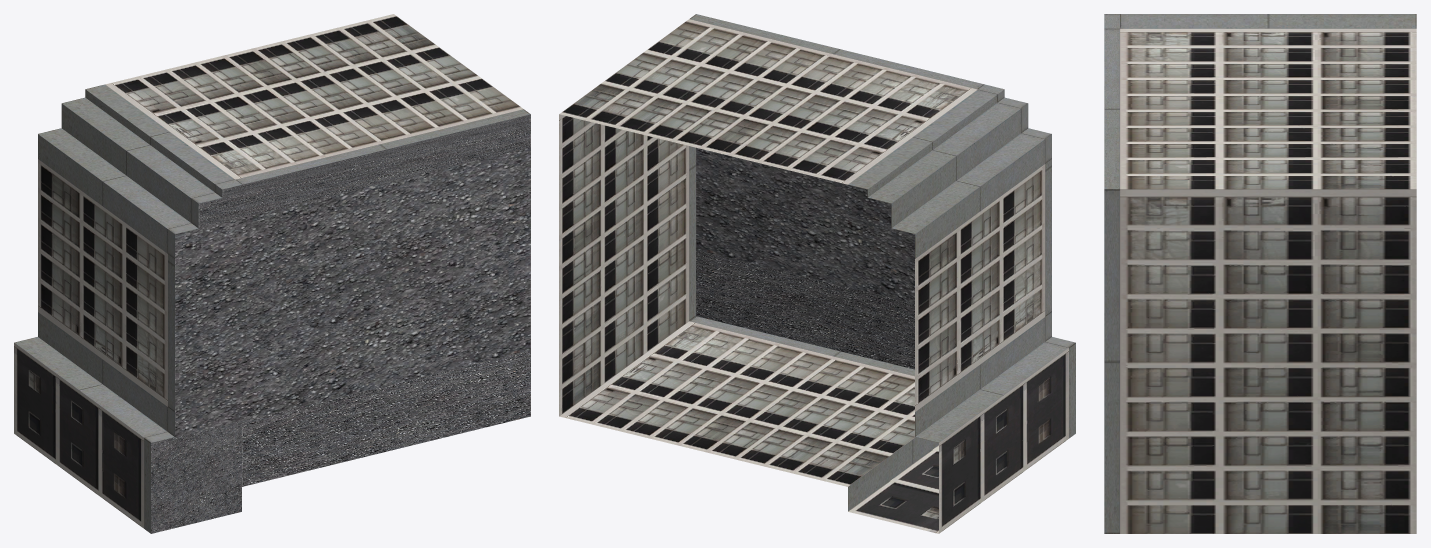
Rendered from mp_nuketown_2020_vista_bldg_06_LOD0.obj.
3 renders of one model, left to right at view 1: azimuth 30°, elevation 25°; view 2: azimuth 150°, elevation 25°; view 3: azimuth 270°, elevation 25°, orthographic. The views are drawn at different scales.
Visible parts, largest first — view 1: mp_m_vista_bldgs_01; view 2: mp_m_vista_bldgs_01; view 3: mp_m_vista_bldgs_01.
Boxes of the visible parts, <box> form: mp_m_vista_bldgs_01: <box>14,14,530,533</box>; mp_m_vista_bldgs_01: <box>559,14,1075,533</box>; mp_m_vista_bldgs_01: <box>1104,14,1416,533</box>.
Size of the model in its own units: 1951 by 1605 by 1219.
Materials: 1 (1 with a texture image).
